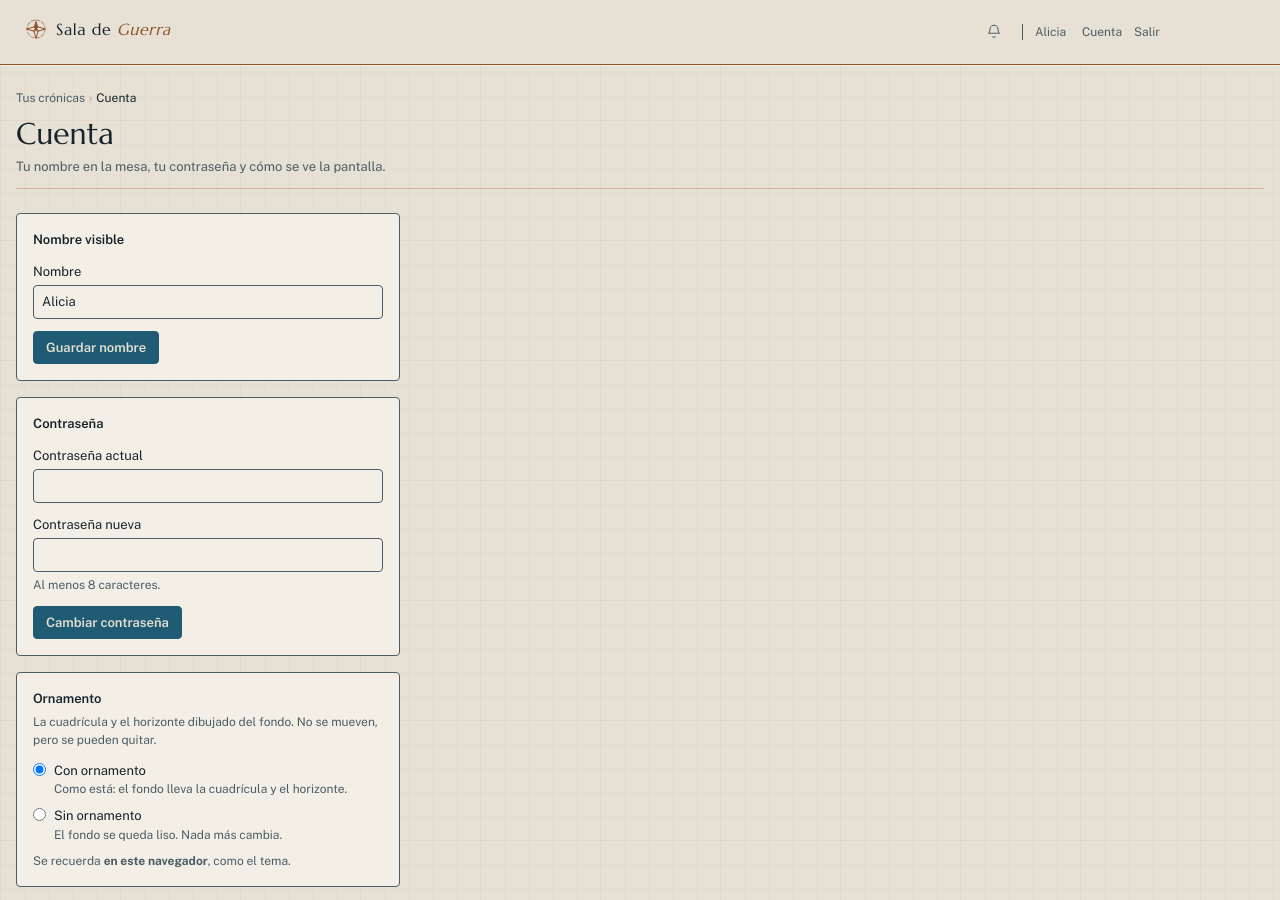
AccountPage › saves a new display name and reflects it in the store, not just on screen
The image size is (1280, 900).
Replace the text in the field labelled "Nombre" with "Alicia Renombrada" at (208, 302), box [33,285,383,318]
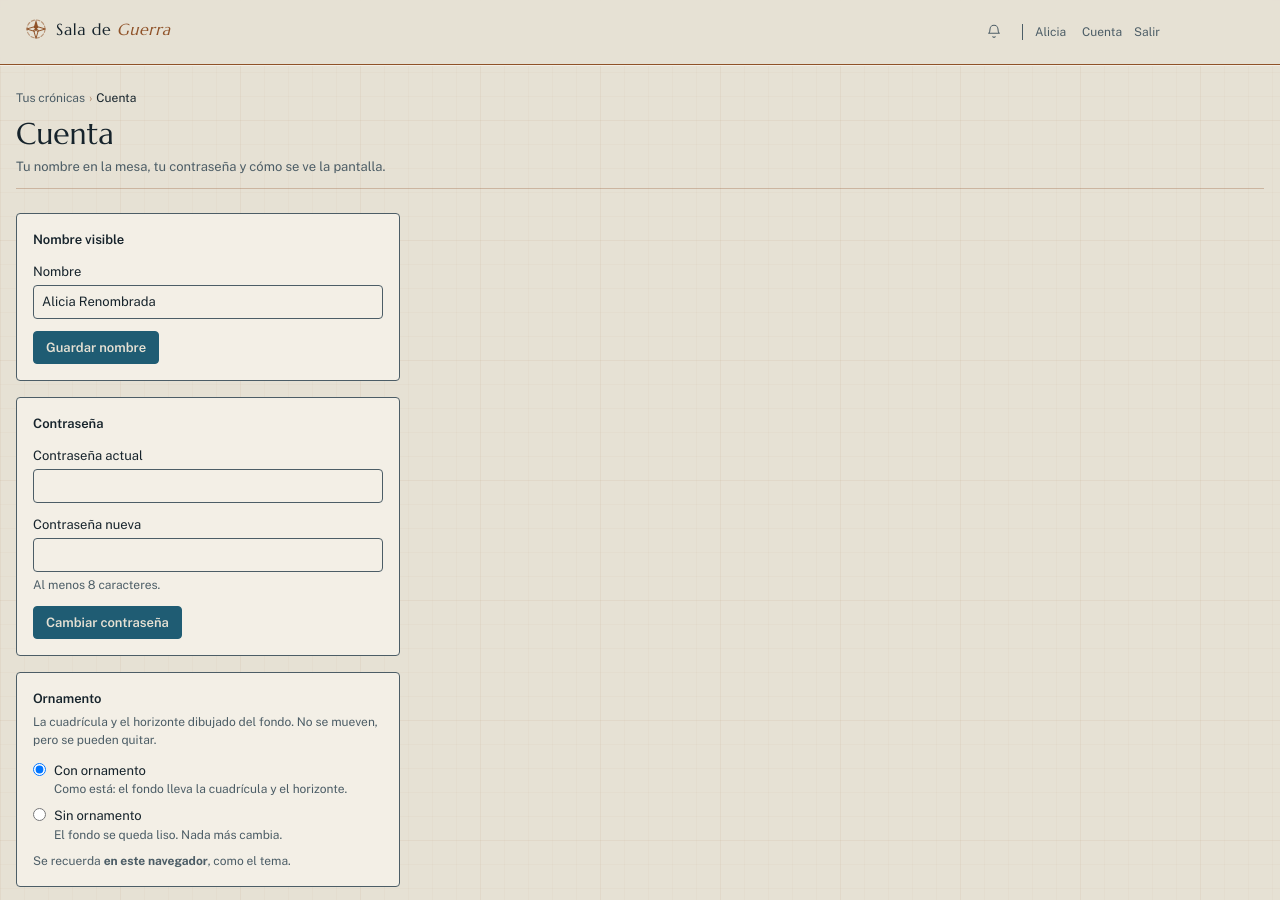
Click the button "Guardar nombre".
click(96, 347)  # box [33,330,159,364]
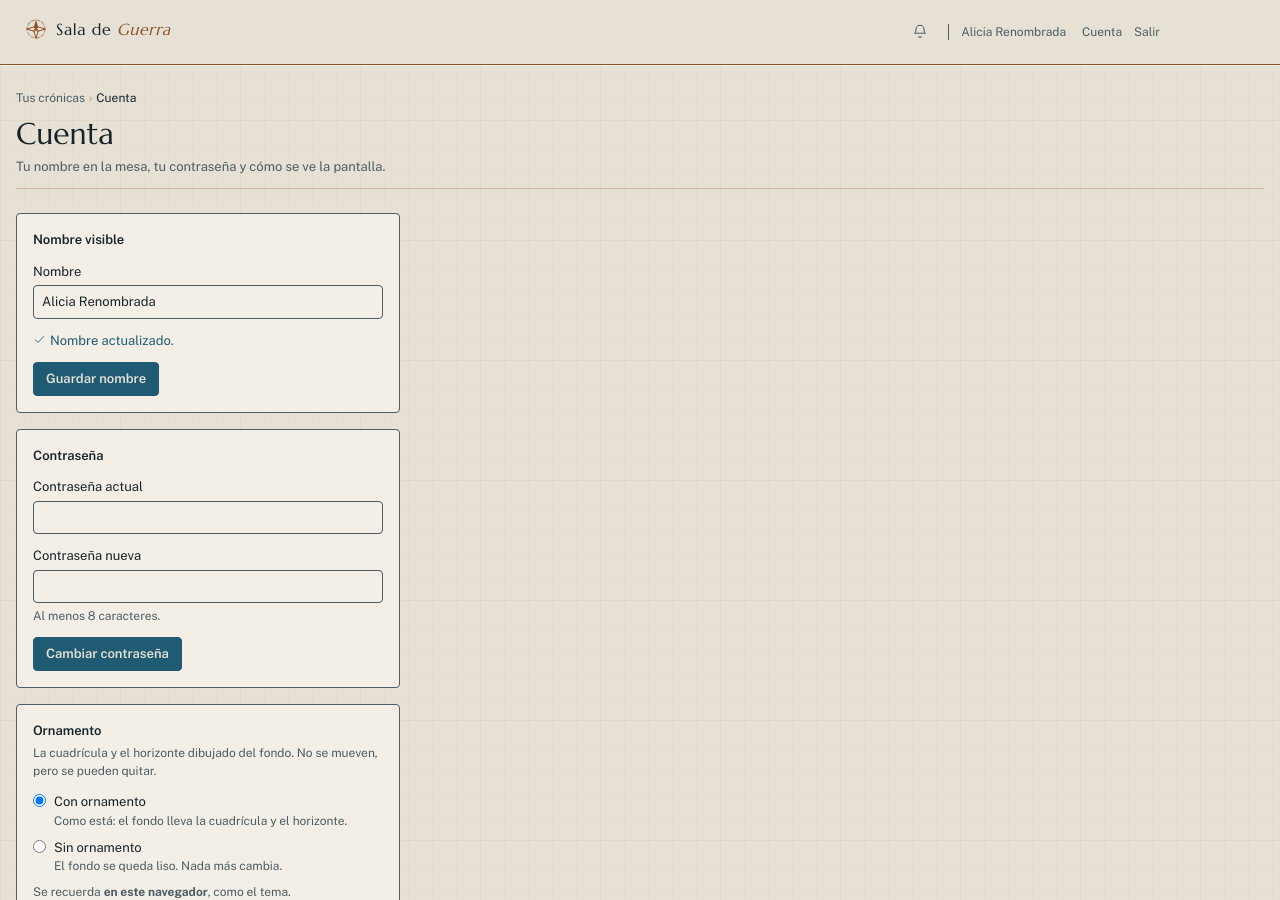
Expected: the icon next to "Nombre actualizado." is shown, [33,333,46,346]
Expected: the text "Nombre actualizado." is shown, [33,332,174,348]
Expected: the element showing "Alicia Renombrada" is shown, [948,23,1066,41]
